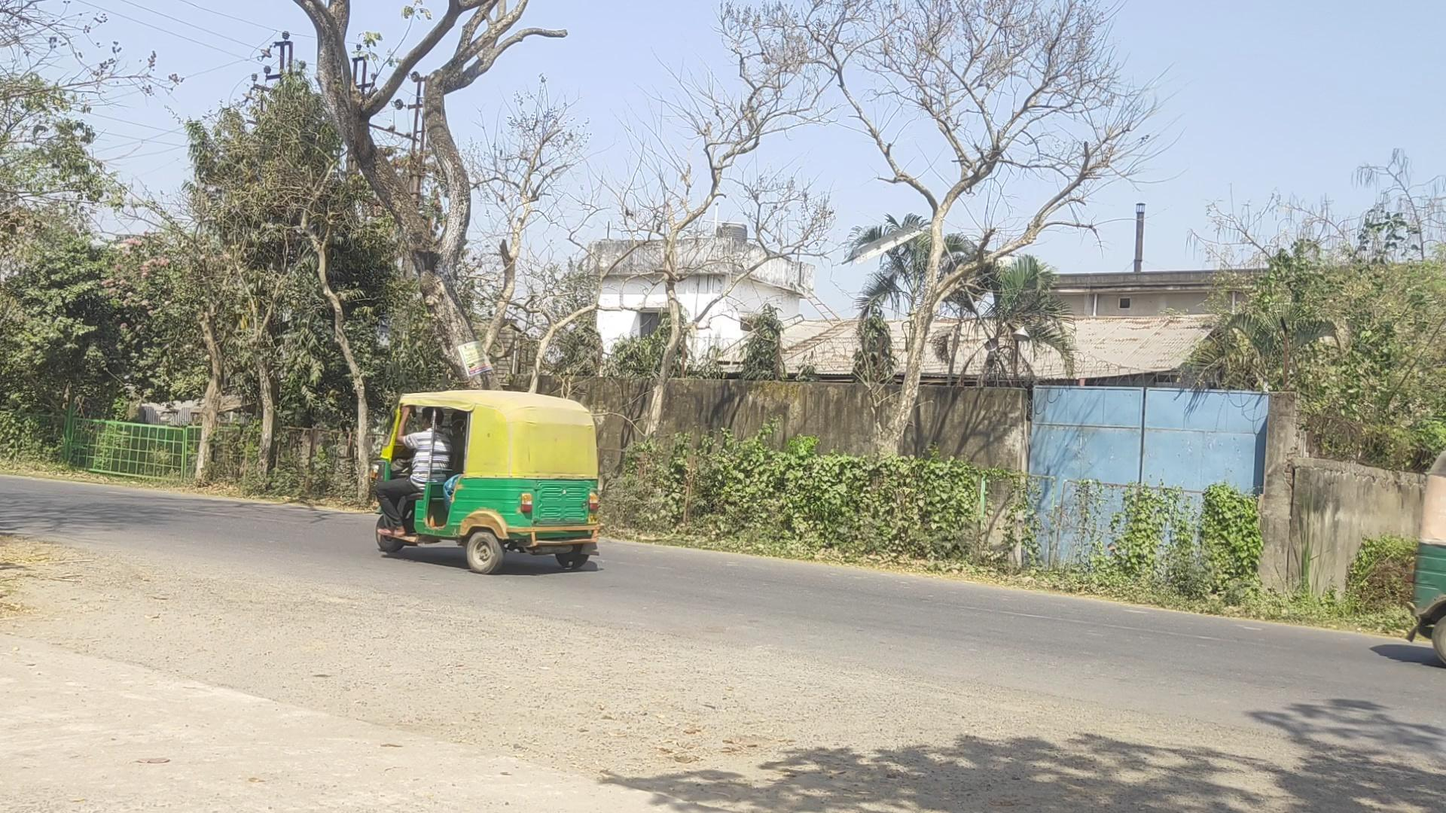Auto: (370, 390, 601, 575)
